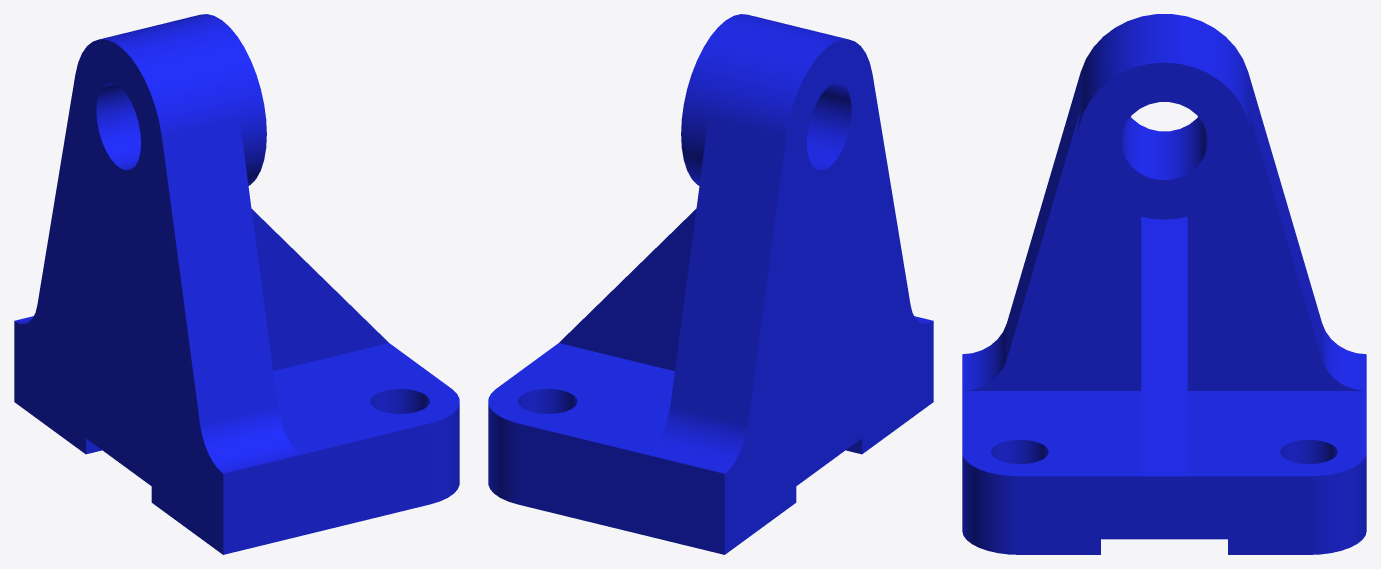
File: asset.glb
3 renders of one model, left to right at view 1: azimuth 30°, elevation 25°; view 2: azimuth 150°, elevation 25°; view 3: azimuth 270°, elevation 25°, orthographic. The views are drawn at different scales.
Visible parts, largest first — view 1: Solid1; view 2: Solid1; view 3: Solid1.
Part boxes in pixels (left/top/right/bottom): Solid1: left=14, top=14, right=459, bottom=554; Solid1: left=488, top=14, right=933, bottom=554; Solid1: left=962, top=14, right=1366, bottom=554.
Size of the model in its own units: 0.05 by 0.08 by 0.07.
